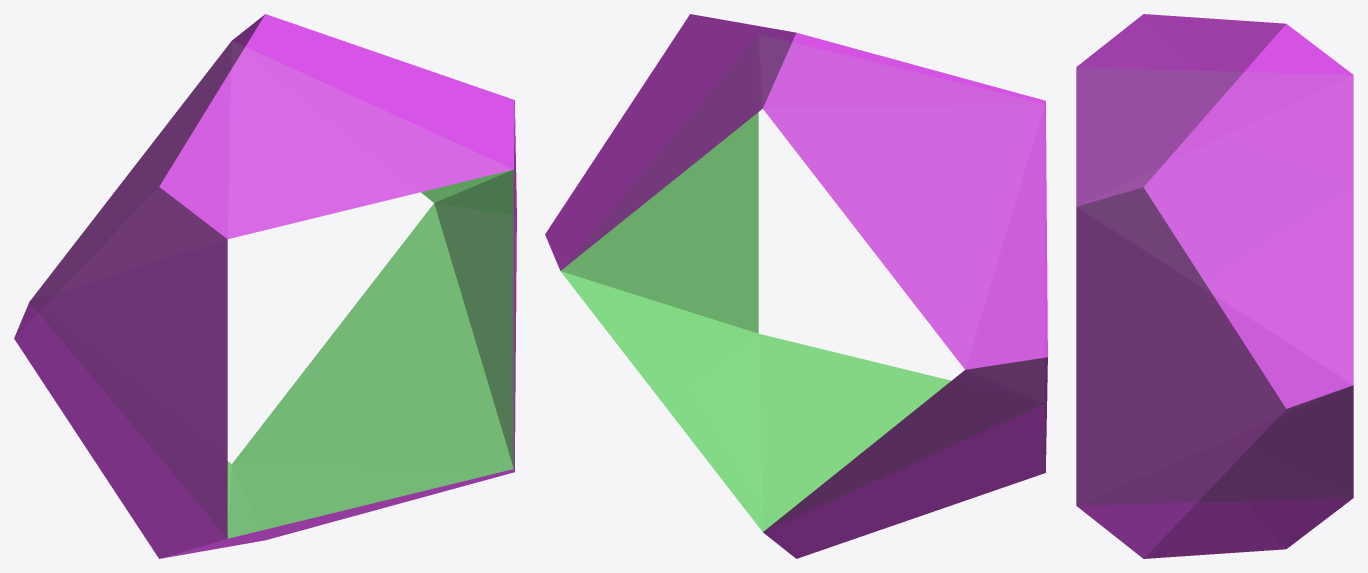
File: TetragonalTrapezohedronAntiprismToroid.obj
3 views of the same model, side by side, from view 1: azimuth 30°, elevation 25°; view 2: azimuth 150°, elevation 25°; view 3: azimuth 270°, elevation 25° (orthographic).
Bounding box in the file's own units: 6.59 × 6.59 × 3.15.
